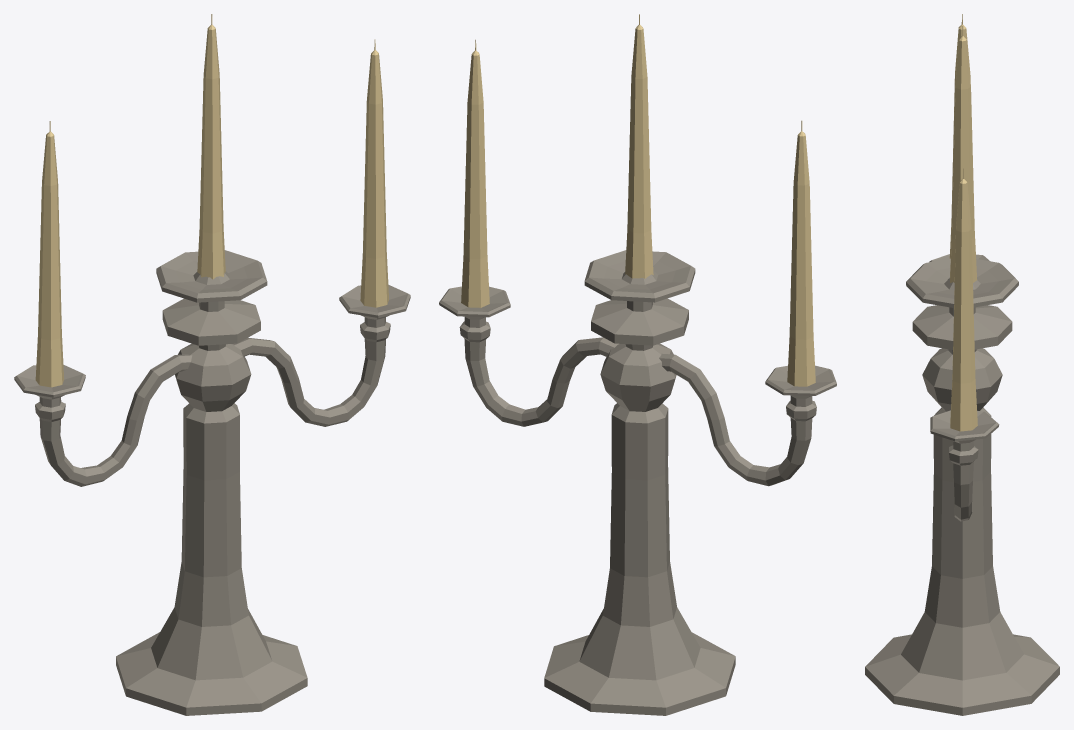
The model's file is Candlestand.fbx.
3 renders of one model, left to right at view 1: azimuth 30°, elevation 25°; view 2: azimuth 150°, elevation 25°; view 3: azimuth 270°, elevation 25°, orthographic.
Parts seen in each view (by area): view 1: Candlestand; view 2: Candlestand; view 3: Candlestand.
Part boxes in pixels (bbox=[...]): Candlestand: bbox=[14, 14, 410, 715]; Candlestand: bbox=[439, 14, 836, 715]; Candlestand: bbox=[865, 14, 1059, 715].
Size of the model in its own units: 0.2796 by 0.4555 by 0.1238.
